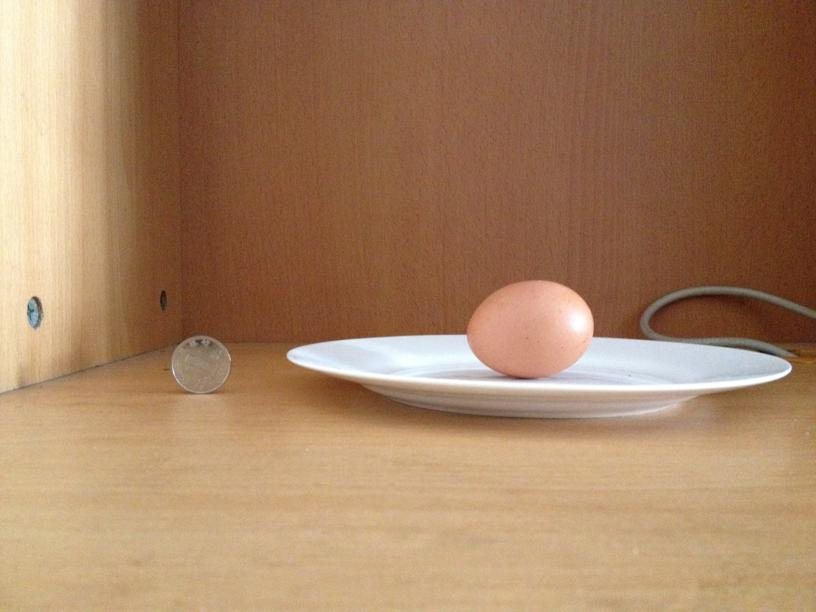coin: (169, 333, 231, 394)
egg: (460, 277, 595, 378)
